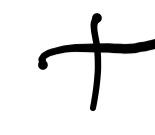plus: (38, 12, 155, 111)
